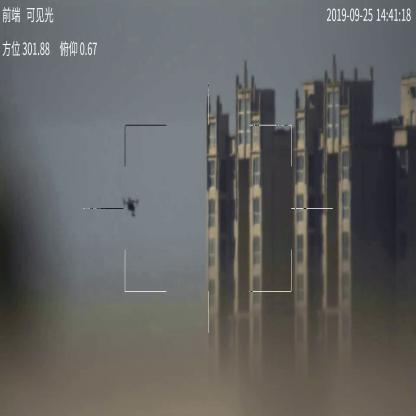uav: (125, 196, 146, 217)
